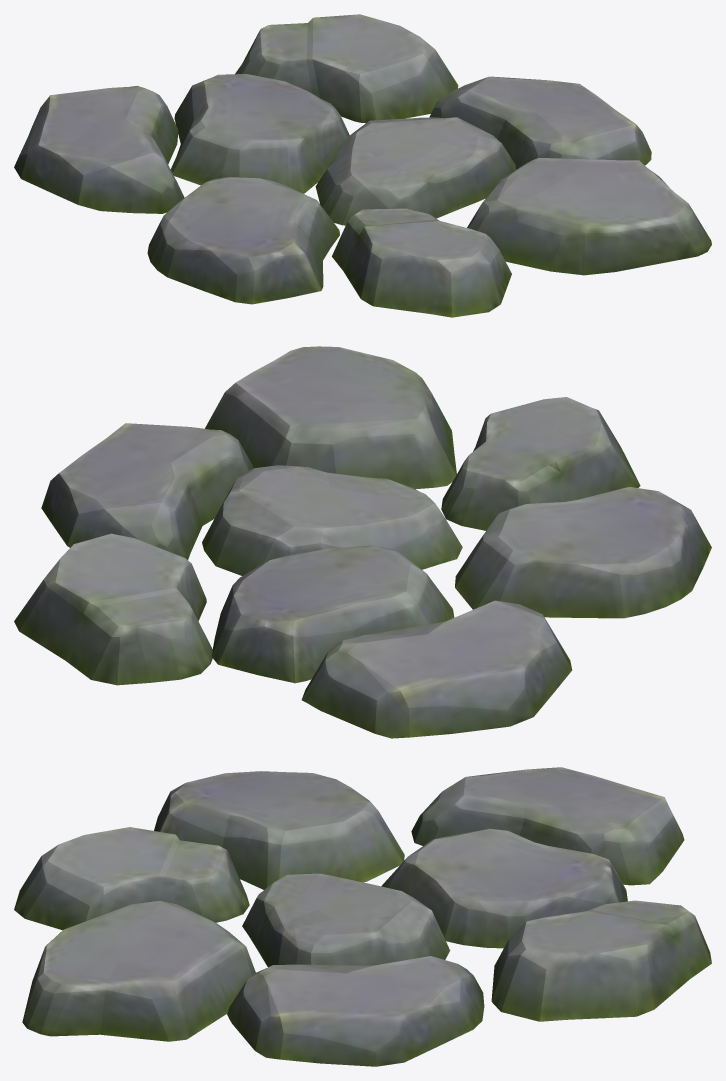
Rendered from RockPath_Round_Small_3.gltf.
3 renders of one model, top to bottom at view 1: azimuth 30°, elevation 25°; view 2: azimuth 150°, elevation 25°; view 3: azimuth 270°, elevation 25°, orthographic. The views are drawn at different scales.
Parts seen in each view (by area): view 1: RockPath_Round_Small_3; view 2: RockPath_Round_Small_3; view 3: RockPath_Round_Small_3.
Boxes of the visible parts, x1,y1,x2,y2 form: RockPath_Round_Small_3: [14, 14, 711, 317]; RockPath_Round_Small_3: [14, 346, 711, 738]; RockPath_Round_Small_3: [14, 767, 711, 1066].
Bounding box in the file's own units: 1.18 × 0.1093 × 1.29.
Materials: 1 (1 with a texture image).
